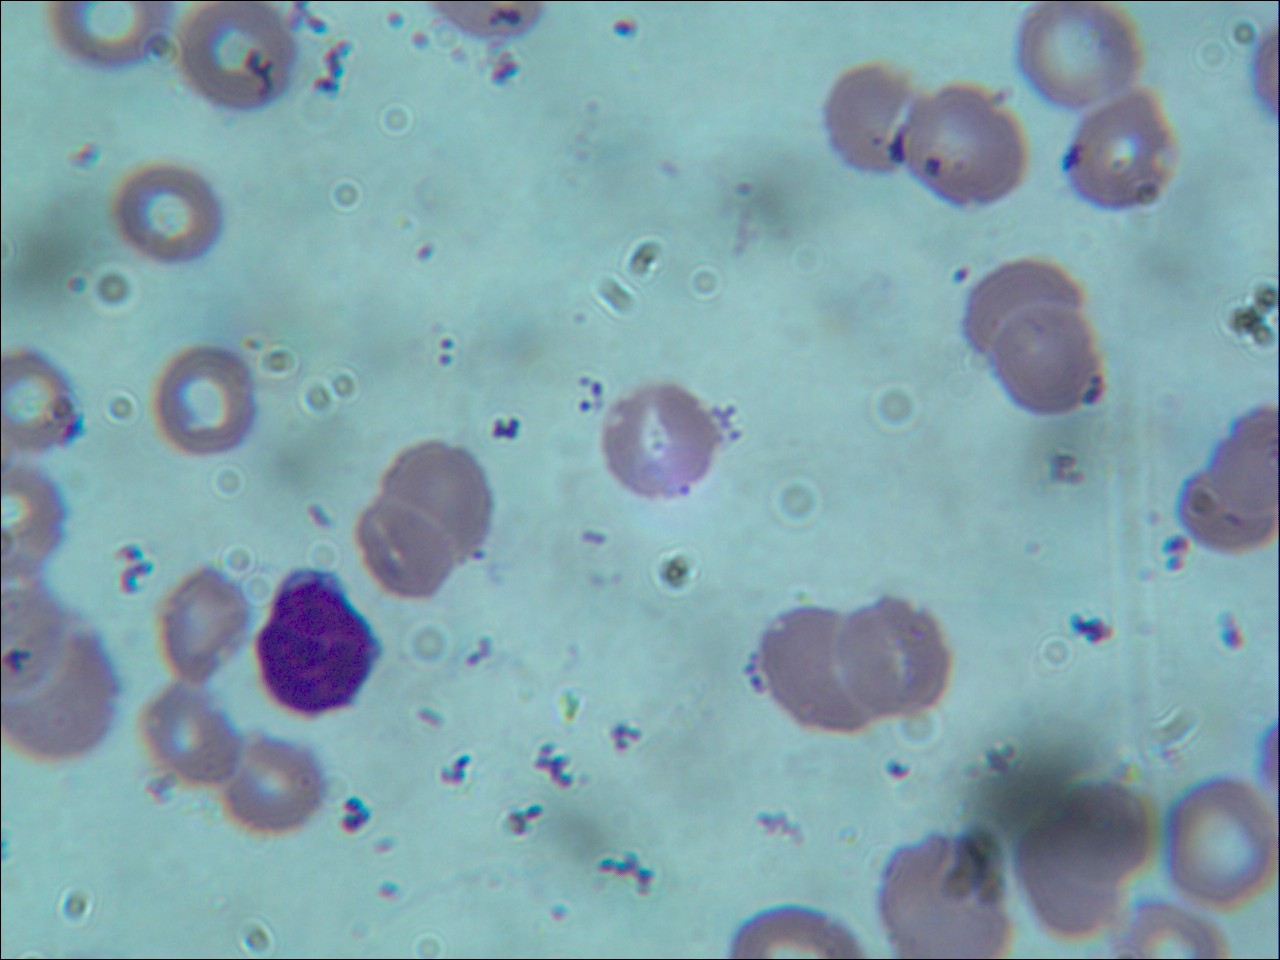Eritrosit: (874, 831, 1015, 960), (1, 624, 120, 764), (755, 605, 877, 736), (902, 86, 1025, 208), (105, 158, 233, 272), (837, 596, 952, 721), (1165, 777, 1280, 899), (1059, 90, 1174, 212), (1009, 3, 1145, 105), (180, 2, 302, 111), (961, 256, 1083, 364), (146, 342, 259, 458), (602, 387, 721, 496), (990, 297, 1098, 417), (823, 55, 931, 171), (387, 442, 492, 556), (214, 733, 323, 840), (1018, 833, 1123, 937), (139, 689, 246, 787), (1046, 781, 1152, 878), (159, 565, 246, 684), (361, 494, 456, 600), (39, 1, 171, 71), (1174, 469, 1280, 556), (1, 352, 84, 459)
Limfoblast: (253, 564, 384, 725)
Platelet: (603, 11, 646, 49), (1214, 605, 1246, 656), (730, 177, 764, 206), (946, 258, 977, 289), (65, 271, 90, 306), (374, 883, 405, 911), (368, 837, 399, 864), (411, 240, 439, 268), (442, 42, 471, 71), (403, 28, 434, 52), (548, 897, 570, 930), (653, 158, 680, 183), (883, 755, 906, 783), (436, 353, 464, 372), (437, 330, 459, 353), (383, 8, 402, 30)
